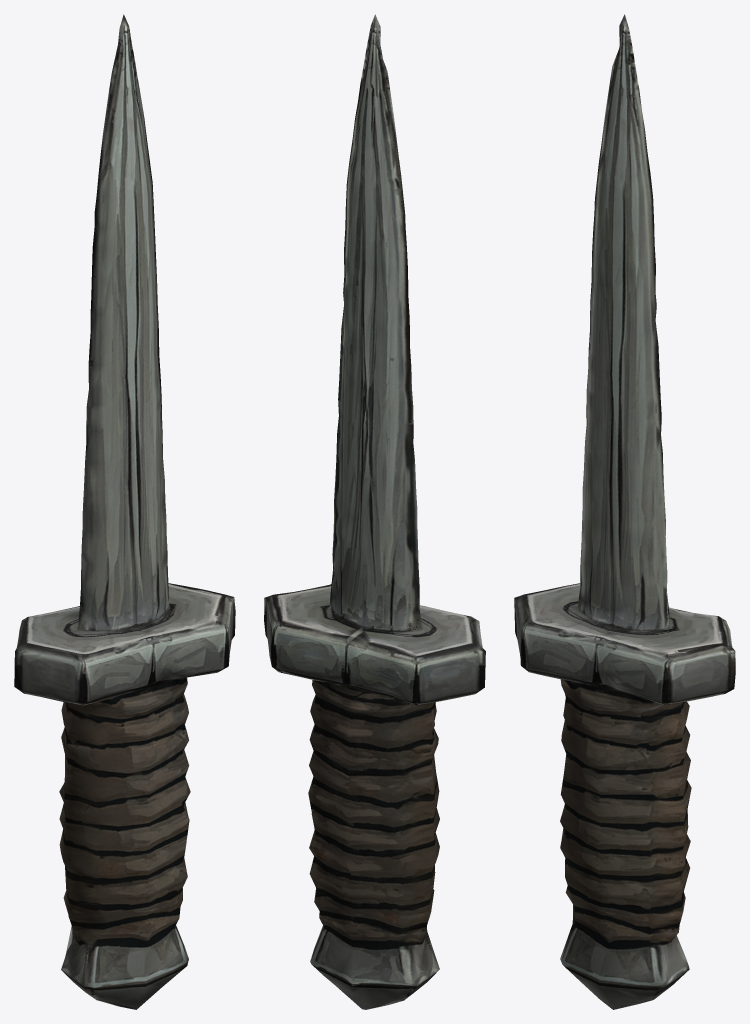
Rendered from Prop_Weapon_Dirk.fbx.
The picture shows the model from 3 angles, left to right: view 1: azimuth 30°, elevation 25°; view 2: azimuth 150°, elevation 25°; view 3: azimuth 330°, elevation 25°; orthographic projection.
Visible parts, largest first — view 1: texture_mapping; view 2: texture_mapping; view 3: texture_mapping.
Boxes of the visible parts, x1,y1,x2,y2 form: texture_mapping: (14, 14, 235, 1009); texture_mapping: (264, 14, 485, 1009); texture_mapping: (514, 14, 735, 1009).
Bounding box in the file's own units: 0.2303 × 0.1122 × 0.9875.
Materials: 1 (1 with a texture image).
